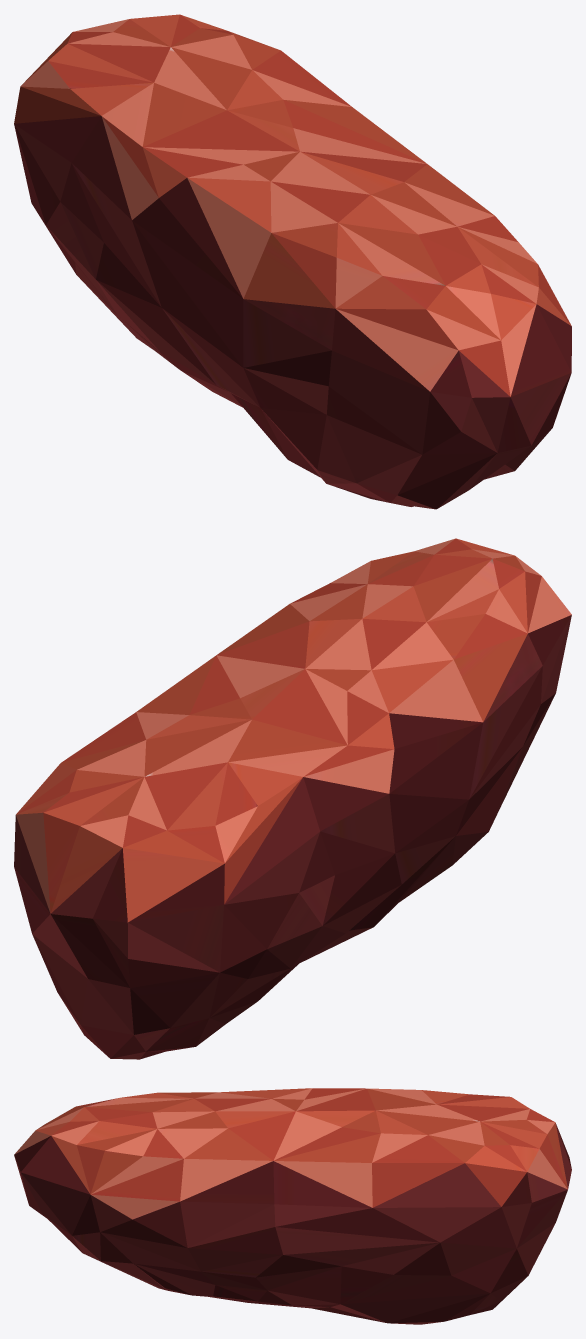
The model's file is Rec_M.fbx.
3 views of the same model, one above another, from view 1: azimuth 30°, elevation 25°; view 2: azimuth 150°, elevation 25°; view 3: azimuth 270°, elevation 25° (orthographic). The views are drawn at different scales.
Visible parts, largest first — view 1: Recangle_Island_Low1; view 2: Recangle_Island_Low1; view 3: Recangle_Island_Low1.
Part boxes in pixels (left/top/right/bottom): Recangle_Island_Low1: left=14, top=14, right=571, bottom=509; Recangle_Island_Low1: left=14, top=538, right=571, bottom=1059; Recangle_Island_Low1: left=14, top=1088, right=571, bottom=1324.
Bounding box in the file's own units: 926 × 1046 × 2647.
